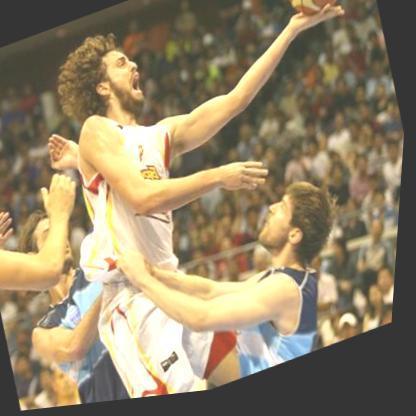basketball: (275, 0, 352, 30)
